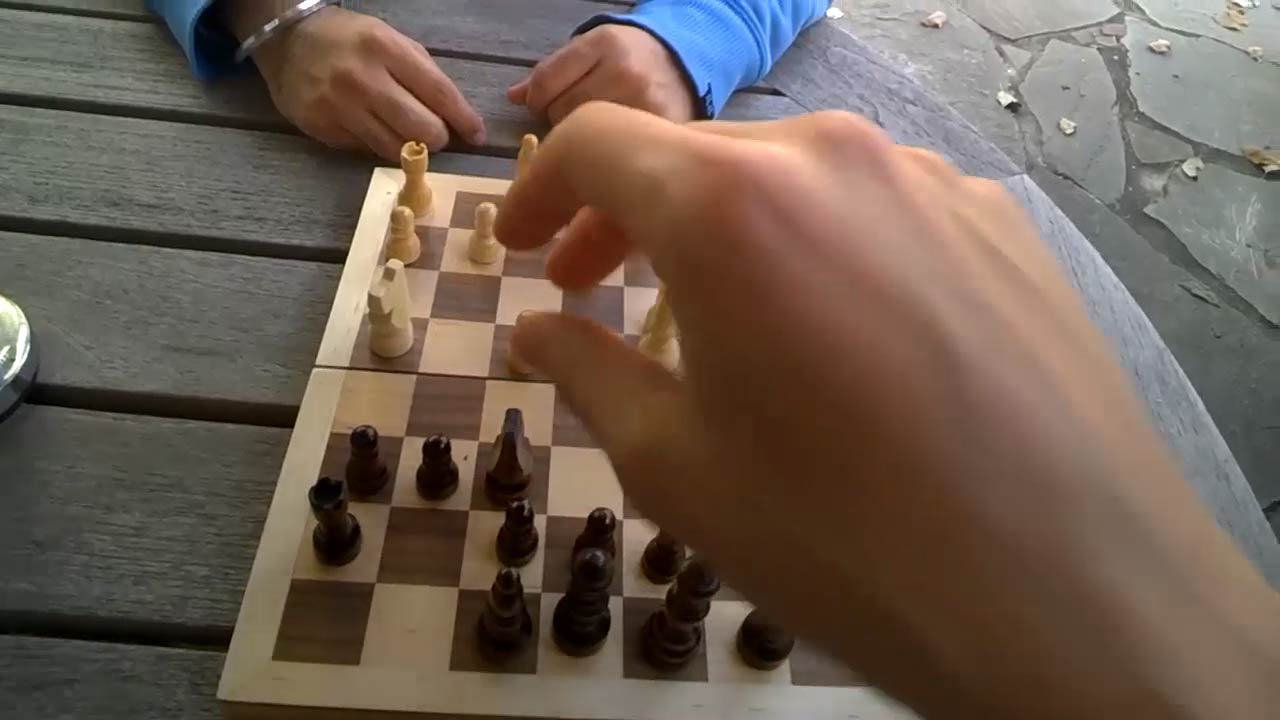hand: (484, 112, 1251, 711), (254, 13, 484, 158), (509, 23, 698, 123)
